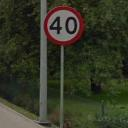speed_limit_40: (42, 7, 86, 45)
